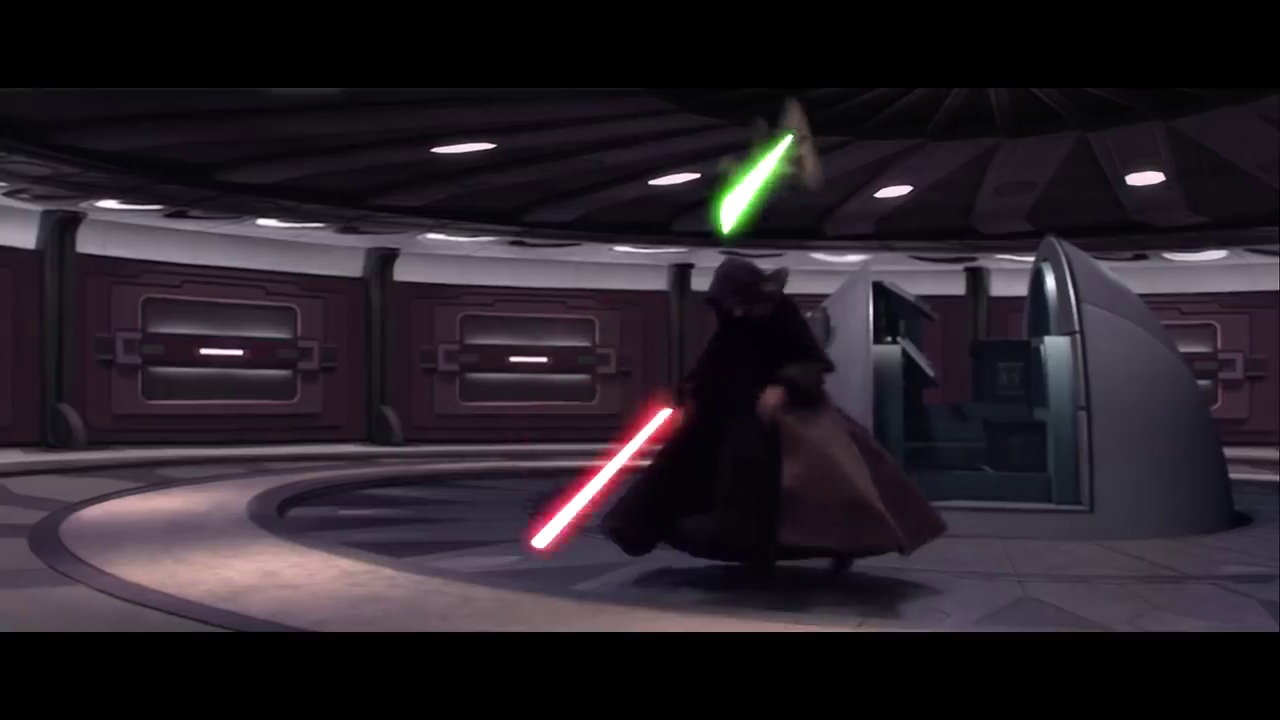lightsaber: (522, 393, 684, 557), (700, 126, 798, 240)
